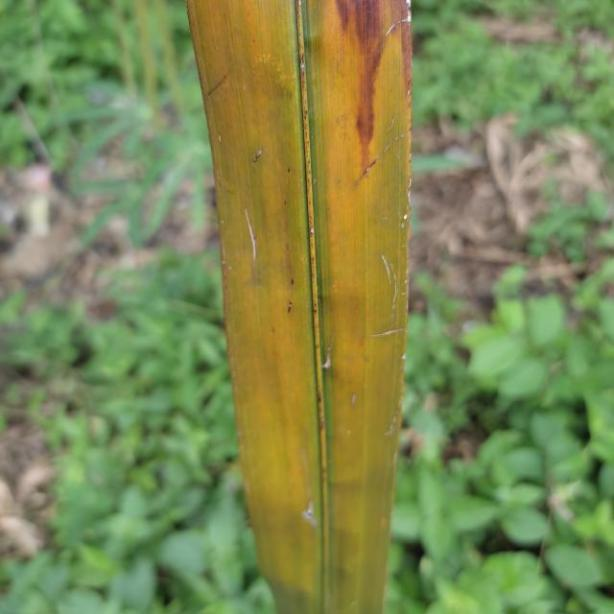Megnesium: (189, 0, 411, 614)
